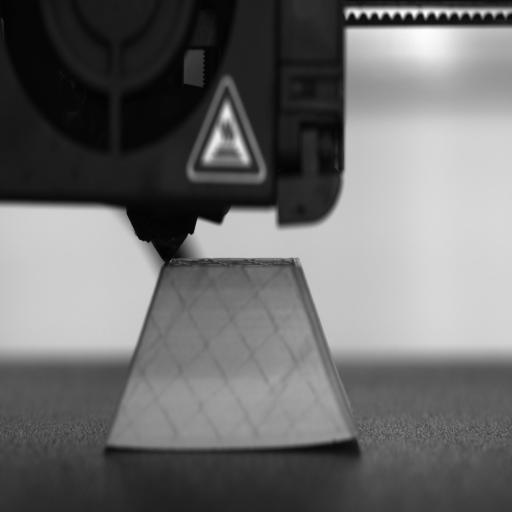warp: (320, 420, 370, 452)
